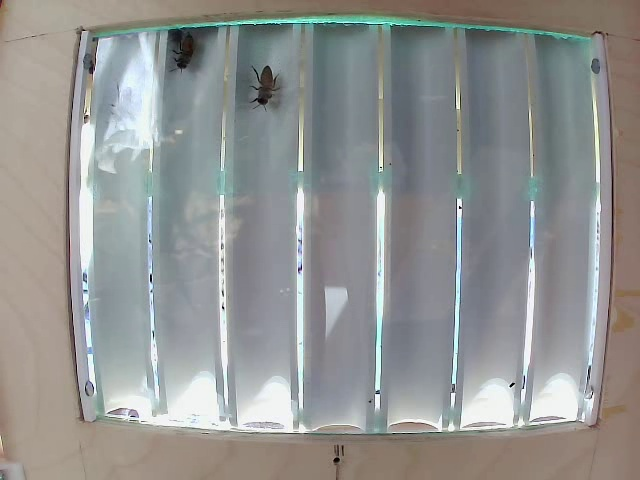bee: (245, 54, 291, 131), (170, 32, 213, 79)
